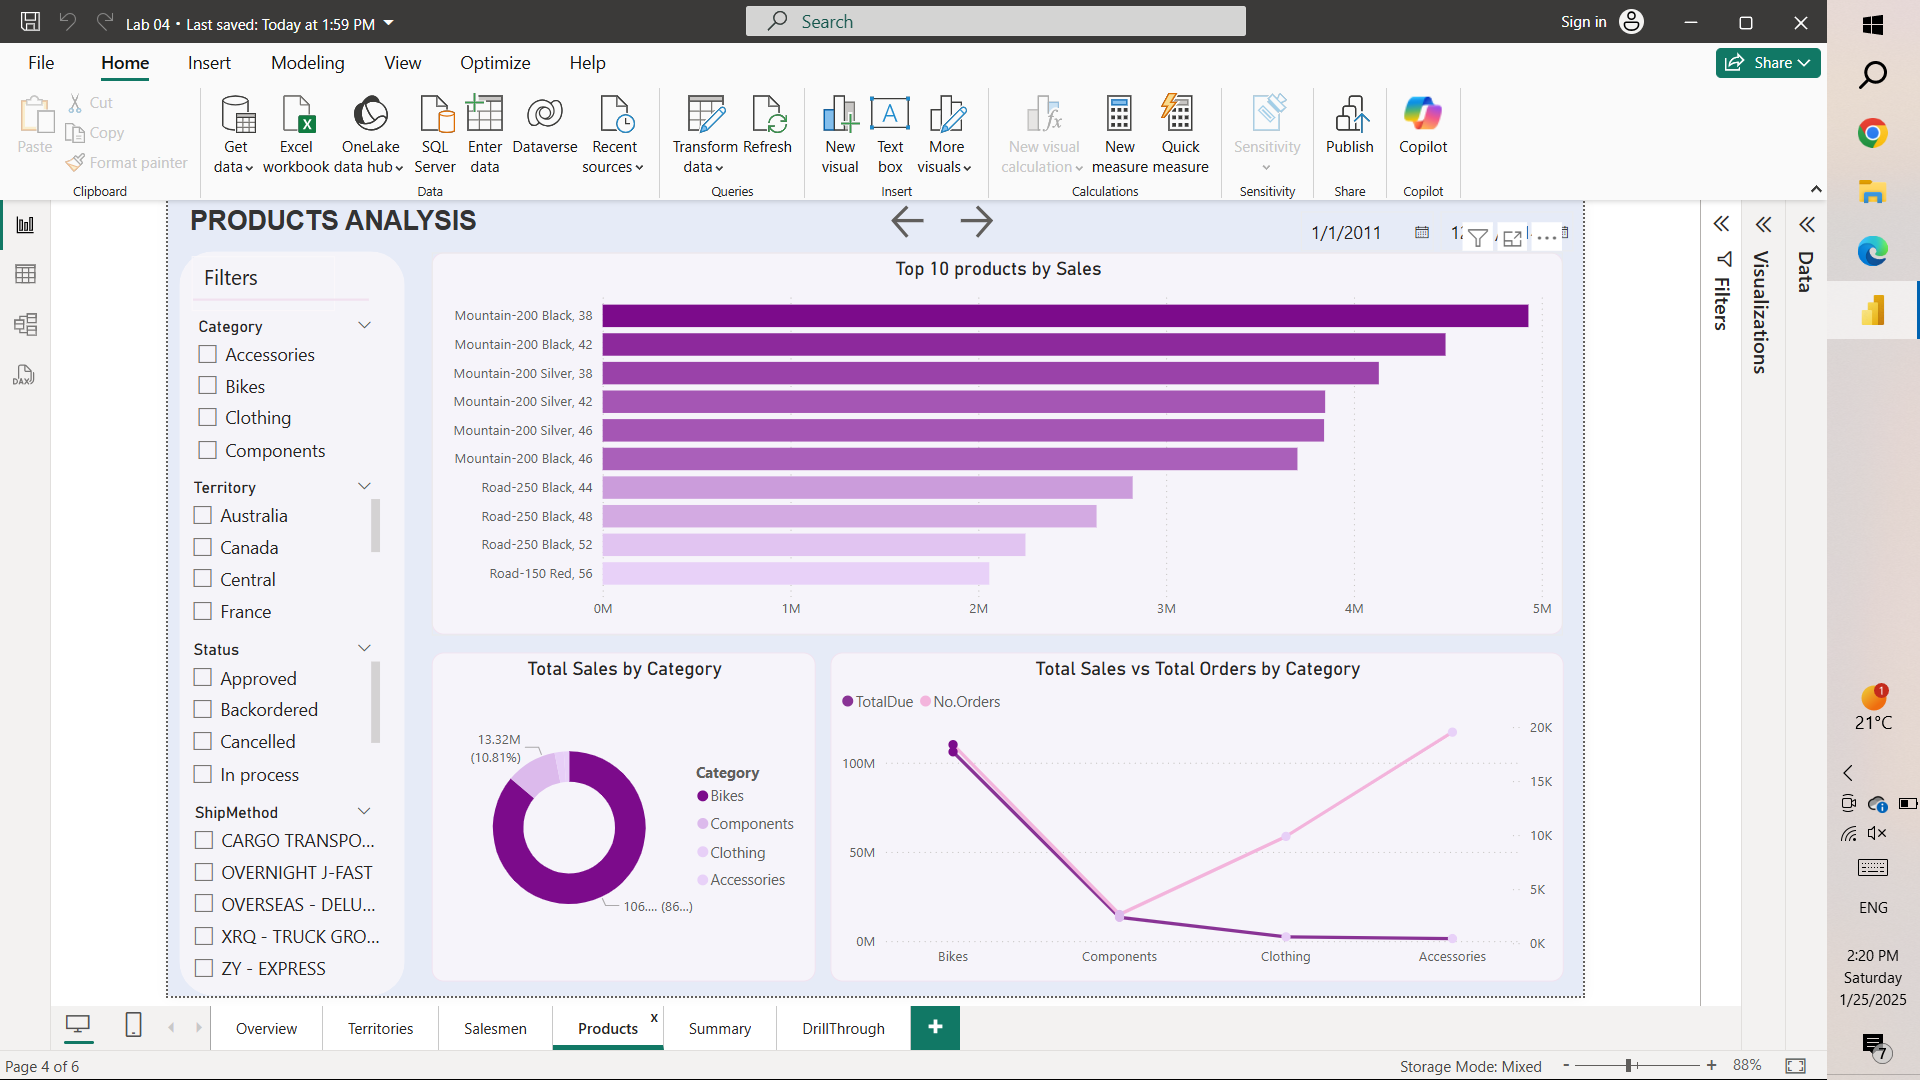

What the dashboard file says about the page in this screenshot:
{"tool":"powerbi","page":{"name":"Products","canvas":[1280,720],"ordinal":3},"visuals":[{"type":"shape","box":[10.2,46.6,204.1,673.4],"z":0},{"type":"slicer","fields":{"Values":["vw_DimProducts.Category"]},"box":[14.6,100.6,182.2,167.6],"z":1000},{"type":"slicer","fields":{"Values":["vw_DimTerritories.Territory"]},"box":[10.2,246.3,186.6,147.2],"z":2000},{"type":"slicer","fields":{"Values":["vw_DimStatuses.Status"]},"box":[10.2,393.5,186.6,142.8],"z":3000},{"type":"slicer","fields":{"Values":["vw_DimShipMethods.ShipMethod"]},"box":[11.7,540.7,185.1,179.3],"z":4000},{"type":"textbox","box":[21.2,51.1,129.6,49.8],"z":5000},{"type":"shape","box":[22.4,37.4,159.5,105.9],"z":6000},{"type":"textbox","box":[14.9,1.5,570.6,70],"z":7000},{"type":"slicer","fields":{"Values":["DimDate.Date"]},"box":[1011.9,0,267.9,89.7],"z":8000},{"type":"barChart","title":"Top 10 products by Sales","fields":{"Y":["DAX_Measures.TotalDue"],"Category":["vw_DimProducts.Product"]},"box":[238.4,47.7,1023.5,345.6],"z":9000},{"type":"donutChart","title":"Total Sales by Category","fields":{"Y":["DAX_Measures.TotalDue"],"Category":["vw_DimProducts.Category"]},"box":[238.4,409.7,347.1,298],"z":10000},{"type":"lineChart","title":"Total Sales vs Total Orders by Category","fields":{"Category":["vw_DimProducts.Category"],"Y":["DAX_Measures.TotalDue"],"Y2":["DAX_Measures.No.Orders"]},"box":[598.9,409.7,663,298],"z":11000},{"type":"actionButton","box":[650.1,0,100.6,39.4],"z":12000},{"type":"actionButton","box":[711.3,0,100.6,39.4],"z":13000}]}

Visuals, with their boxes on the page's 1280x720 design canvas (x1, y1, x2, y2). These are canvas units, not pixel positions in the 1920x1080 screenshot, which may show the page scaled, cropped or inside an application window:
shape: x1=10, y1=47, x2=214, y2=720
slicer - vw_DimProducts.Category: x1=15, y1=101, x2=197, y2=268
slicer - vw_DimTerritories.Territory: x1=10, y1=246, x2=197, y2=394
slicer - vw_DimStatuses.Status: x1=10, y1=394, x2=197, y2=536
slicer - vw_DimShipMethods.ShipMethod: x1=12, y1=541, x2=197, y2=720
textbox: x1=21, y1=51, x2=151, y2=101
shape: x1=22, y1=37, x2=182, y2=143
textbox: x1=15, y1=2, x2=586, y2=72
slicer - DimDate.Date: x1=1012, y1=0, x2=1280, y2=90
"Top 10 products by Sales" barChart: x1=238, y1=48, x2=1262, y2=393
"Total Sales by Category" donutChart: x1=238, y1=410, x2=586, y2=708
"Total Sales vs Total Orders by Category" lineChart: x1=599, y1=410, x2=1262, y2=708
actionButton: x1=650, y1=0, x2=751, y2=39
actionButton: x1=711, y1=0, x2=812, y2=39
